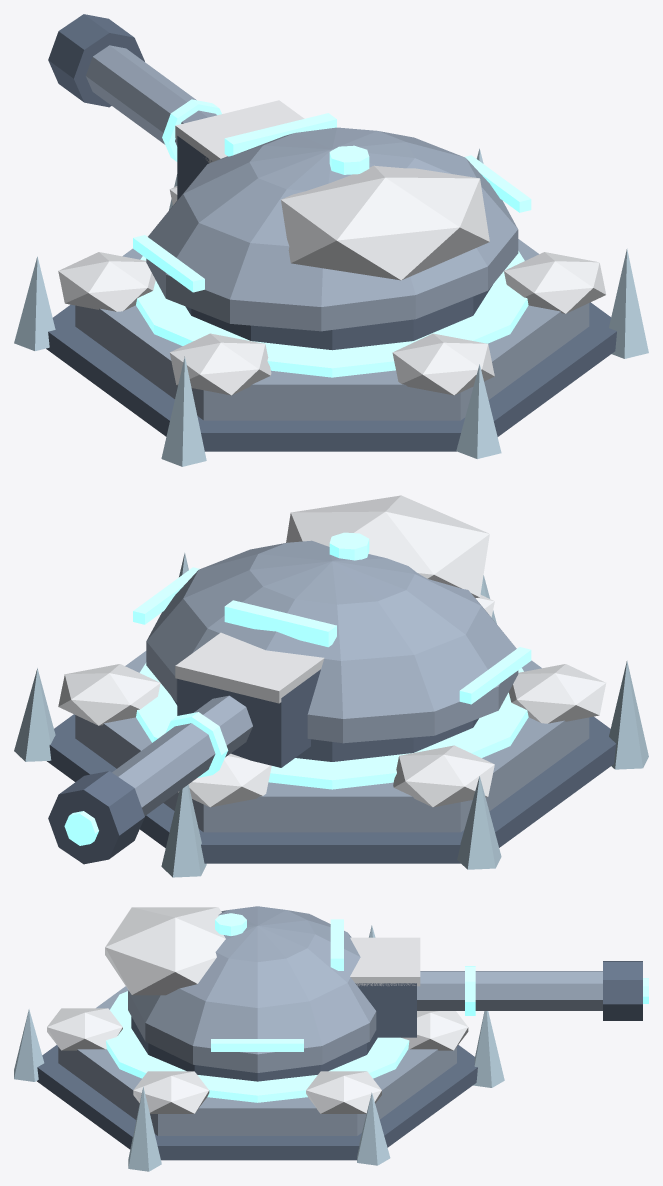
File: turret_lvl1.fbx
The picture shows the model from 3 angles, top to bottom: view 1: azimuth 30°, elevation 25°; view 2: azimuth 150°, elevation 25°; view 3: azimuth 270°, elevation 25°; orthographic projection. The views are drawn at different scales.
Visible parts, largest first — view 1: Dome_05, Base_01, BaseSkirt_02, SnowBlanket_16, Neon_BaseRing_03, Barrel_09, Pivot_04, SnowMound_21, SnowMound_20, SnowMound_22, SnowMound_19, Muzzle_10 (+11 smaller); view 2: Dome_05, Base_01, BaseSkirt_02, SnowBlanket_16, Neon_BaseRing_03, Barrel_09, SnowCap_08, BarrelMount_07, Muzzle_10, SnowMound_19, SnowMound_17, SnowMound_20 (+12 smaller); view 3: Dome_05, Base_01, BaseSkirt_02, SnowBlanket_16, Barrel_09, Neon_BaseRing_03, SnowCap_08, SnowMound_17, SnowMound_22, SnowMound_21, BarrelMount_07, Pivot_04 (+10 smaller).
Boxes of the visible parts, x1=… form: Dome_05: x1=146, y1=127, x2=518, y2=331; Base_01: x1=75, y1=239, x2=589, y2=420; BaseSkirt_02: x1=46, y1=302, x2=616, y2=451; SnowBlanket_16: x1=281, y1=165, x2=489, y2=280; Neon_BaseRing_03: x1=136, y1=251, x2=528, y2=377; Barrel_09: x1=86, y1=45, x2=216, y2=146; Pivot_04: x1=185, y1=285, x2=492, y2=350; SnowMound_21: x1=392, y1=333, x2=494, y2=395; SnowMound_20: x1=169, y1=333, x2=271, y2=395; SnowMound_22: x1=504, y1=252, x2=606, y2=313; SnowMound_19: x1=58, y1=252, x2=155, y2=311; Muzzle_10: x1=48, y1=14, x2=144, y2=107; Dome_05: x1=146, y1=540, x2=518, y2=743; Base_01: x1=75, y1=651, x2=589, y2=832; BaseSkirt_02: x1=47, y1=714, x2=616, y2=863; SnowBlanket_16: x1=286, y1=495, x2=489, y2=597; Neon_BaseRing_03: x1=136, y1=662, x2=528, y2=789; Barrel_09: x1=112, y1=695, x2=252, y2=815; SnowCap_08: x1=175, y1=632, x2=324, y2=703; BarrelMount_07: x1=177, y1=669, x2=320, y2=767; Muzzle_10: x1=48, y1=771, x2=144, y2=864; SnowMound_19: x1=393, y1=745, x2=494, y2=807; SnowMound_17: x1=58, y1=664, x2=160, y2=725; SnowMound_20: x1=508, y1=664, x2=606, y2=723; Dome_05: x1=128, y1=906, x2=376, y2=1072; Base_01: x1=58, y1=986, x2=456, y2=1135; BaseSkirt_02: x1=37, y1=1045, x2=477, y2=1160; SnowBlanket_16: x1=105, y1=907, x2=225, y2=995; Barrel_09: x1=417, y1=971, x2=602, y2=1010; Neon_BaseRing_03: x1=106, y1=991, x2=409, y2=1102; SnowCap_08: x1=350, y1=937, x2=420, y2=986; SnowMound_17: x1=306, y1=1071, x2=381, y2=1113; SnowMound_22: x1=133, y1=1071, x2=209, y2=1113; SnowMound_21: x1=47, y1=1008, x2=122, y2=1050; BarrelMount_07: x1=355, y1=983, x2=416, y2=1037; Pivot_04: x1=131, y1=1016, x2=377, y2=1081.
Size of the model in its own units: 325 by 135 by 478.
